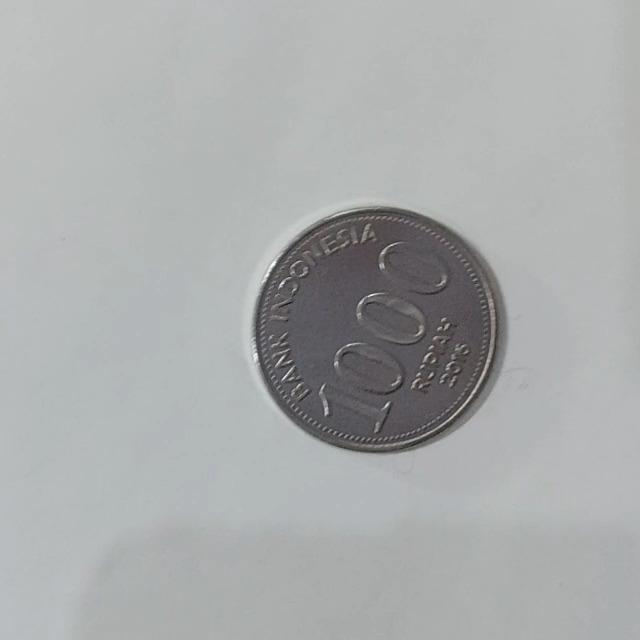Rp100: (249, 202, 501, 454)
